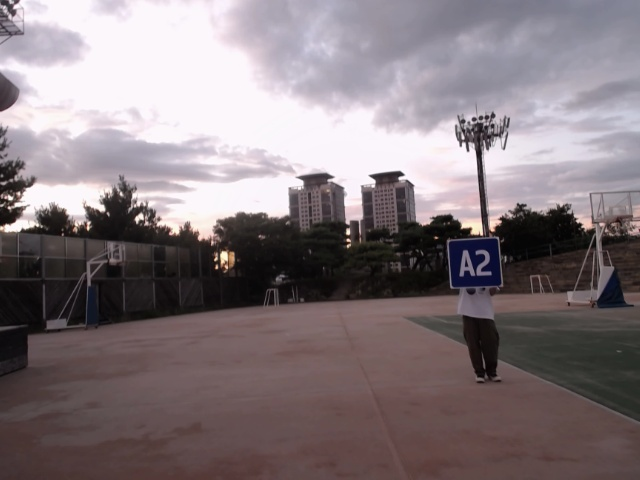delivery_a2: (447, 237, 503, 290)
